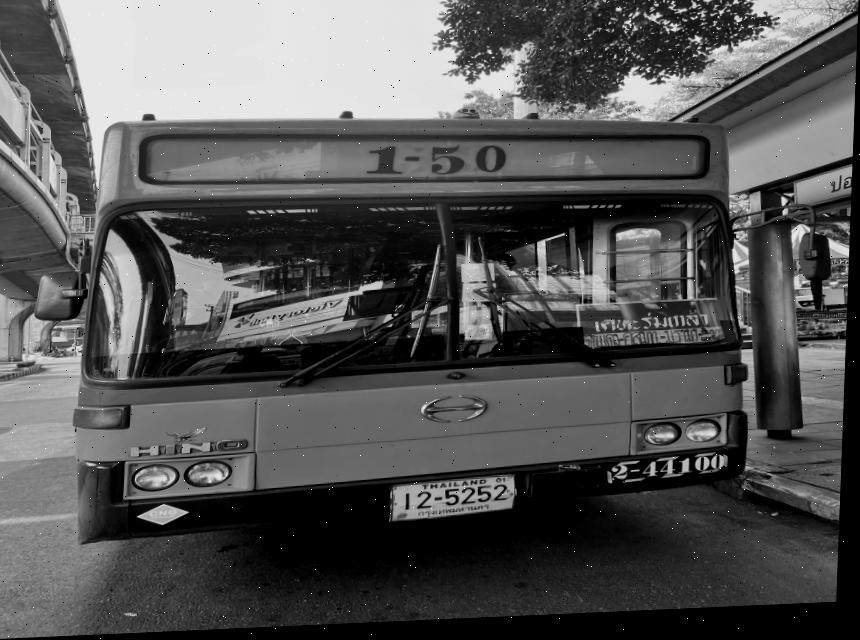BMTA-bus: (73, 118, 754, 548)
Bus Line Number: (354, 139, 521, 191)
Bus Side Number: (603, 453, 738, 493)
Destination Sign: (578, 301, 728, 355)
